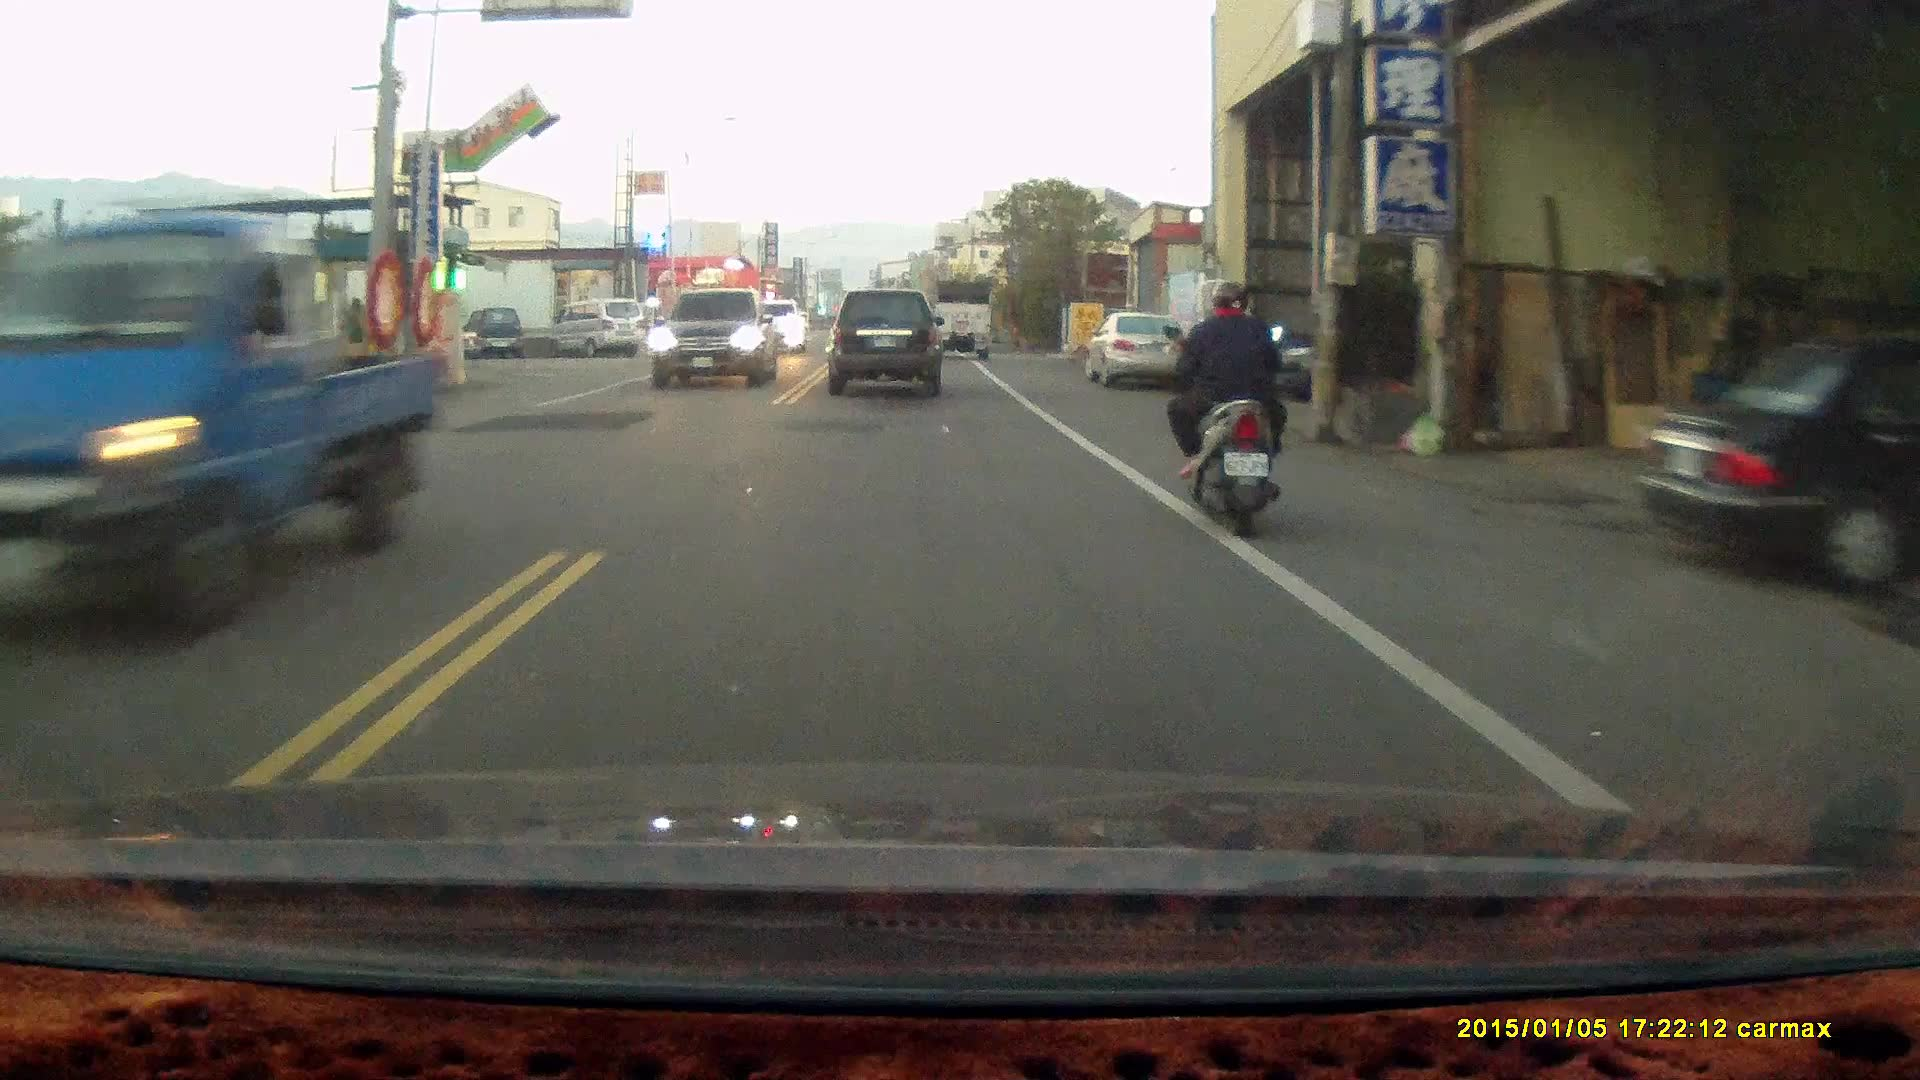rider: (1160, 275, 1290, 540)
vehicle: (1, 210, 464, 643), (1642, 323, 1918, 599), (649, 286, 784, 393), (827, 288, 944, 397), (1084, 311, 1184, 386), (552, 297, 647, 357), (927, 268, 997, 349)
